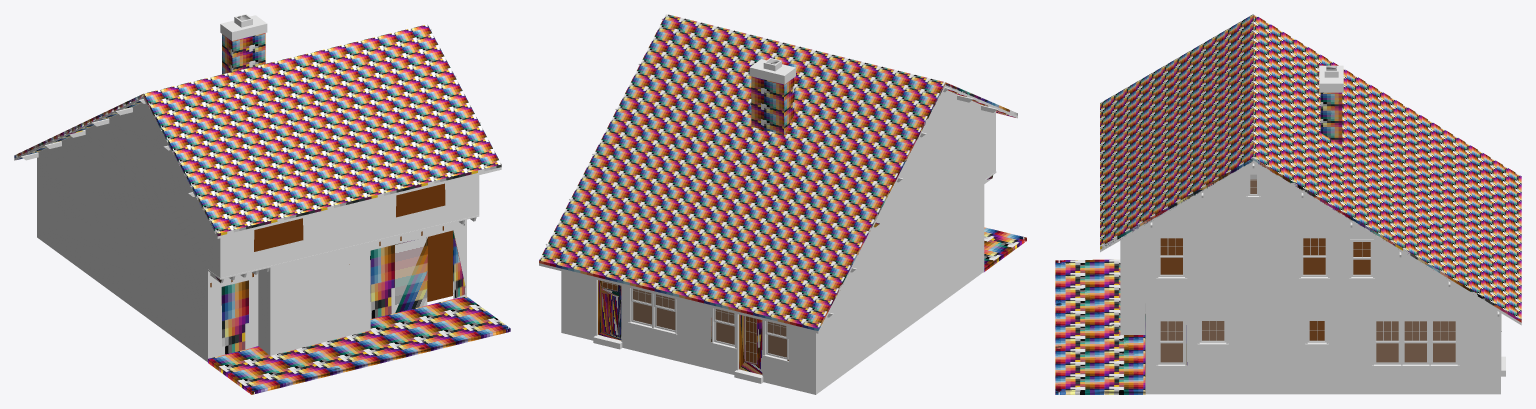
File: Single house 1.fbx
3 views of the same model, side by side, from view 1: azimuth 30°, elevation 25°; view 2: azimuth 150°, elevation 25°; view 3: azimuth 270°, elevation 25° (orthographic). The views are drawn at different scales.
Visible parts, largest first — view 1: Single_house; view 2: Single_house; view 3: Single_house.
Part boxes in pixels (x1,y1,x2,y2): Single_house: (14,14,510,394); Single_house: (539,14,1026,394); Single_house: (1055,14,1521,394).
Size of the model in its own units: 1067 by 868 by 1419.
Materials: 6 (1 with a texture image).
